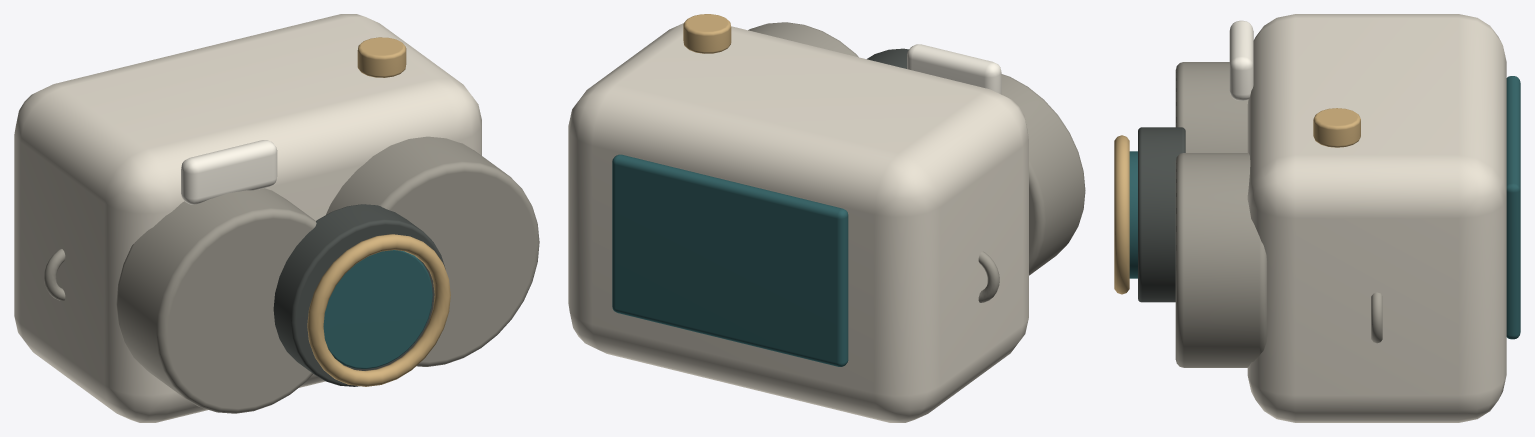
File: camera.glb
3 views of the same model, side by side, from view 1: azimuth 30°, elevation 25°; view 2: azimuth 150°, elevation 25°; view 3: azimuth 270°, elevation 25° (orthographic). The views are drawn at different scales.
Parts seen in each view (by area): view 1: Camera body, Lens barrel, Lens barrel.001, Lens glass, Lens ring, Lens bevel, Flash window, Shutter button, Strap eyelet; view 2: Camera body, Rear display, Lens barrel, Flash window, Shutter button, Lens barrel.001, Strap eyelet, Lens ring; view 3: Camera body, Lens barrel.001, Lens ring, Lens barrel, Rear display, Lens bevel, Flash window, Shutter button, Lens glass, Strap eyelet.001.
Part boxes in pixels (bbox=[...]): Camera body: bbox=[14, 14, 481, 422]; Lens barrel: bbox=[116, 188, 316, 413]; Lens barrel.001: bbox=[326, 136, 539, 366]; Lens glass: bbox=[323, 250, 432, 368]; Lens ring: bbox=[273, 204, 445, 386]; Lens bevel: bbox=[307, 234, 450, 386]; Flash window: bbox=[181, 140, 277, 204]; Shutter button: bbox=[357, 37, 406, 77]; Strap eyelet: bbox=[44, 248, 65, 300]; Camera body: bbox=[568, 23, 1028, 422]; Rear display: bbox=[612, 154, 848, 366]; Lens barrel: bbox=[1001, 74, 1085, 275]; Flash window: bbox=[907, 44, 1001, 94]; Shutter button: bbox=[683, 14, 731, 53]; Lens barrel.001: bbox=[748, 22, 858, 57]; Strap eyelet: bbox=[978, 251, 999, 302]; Lens ring: bbox=[867, 48, 908, 68]; Camera body: bbox=[1247, 14, 1506, 422]; Lens barrel.001: bbox=[1175, 153, 1267, 367]; Lens ring: bbox=[1138, 127, 1185, 302]; Lens barrel: bbox=[1175, 62, 1248, 152]; Rear display: bbox=[1506, 76, 1520, 339]; Lens bevel: bbox=[1114, 135, 1129, 294]; Flash window: bbox=[1229, 20, 1253, 100]; Shutter button: bbox=[1313, 108, 1360, 147]; Lens glass: bbox=[1129, 151, 1137, 278]; Strap eyelet.001: bbox=[1371, 292, 1382, 343].
Bounding box in the file's own units: 0.115 × 0.0795 × 0.1019.
